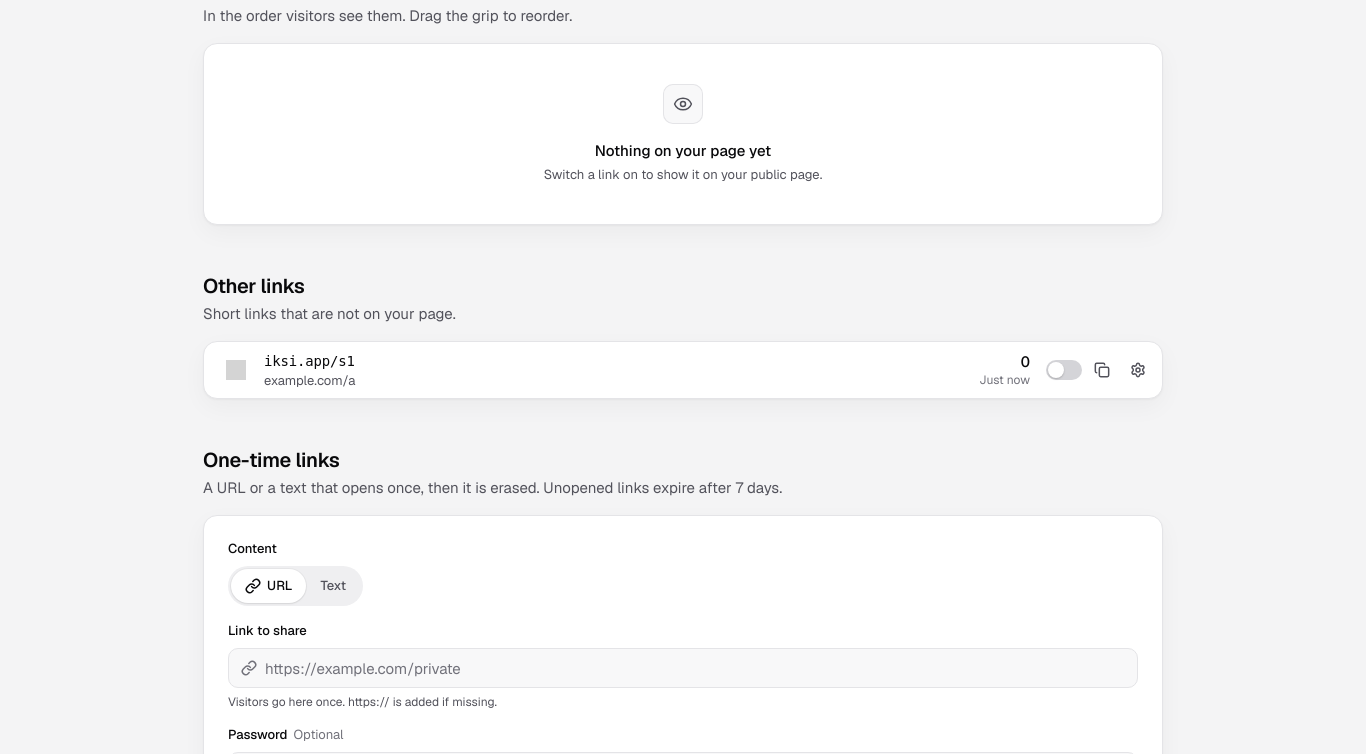
Test: links page settings sheet › updates the row from the returned settings
(page scrolled)
Click the button named "Settings for iksi.app/s1". click: x=1138, y=370
box: [1122,354,1154,386]
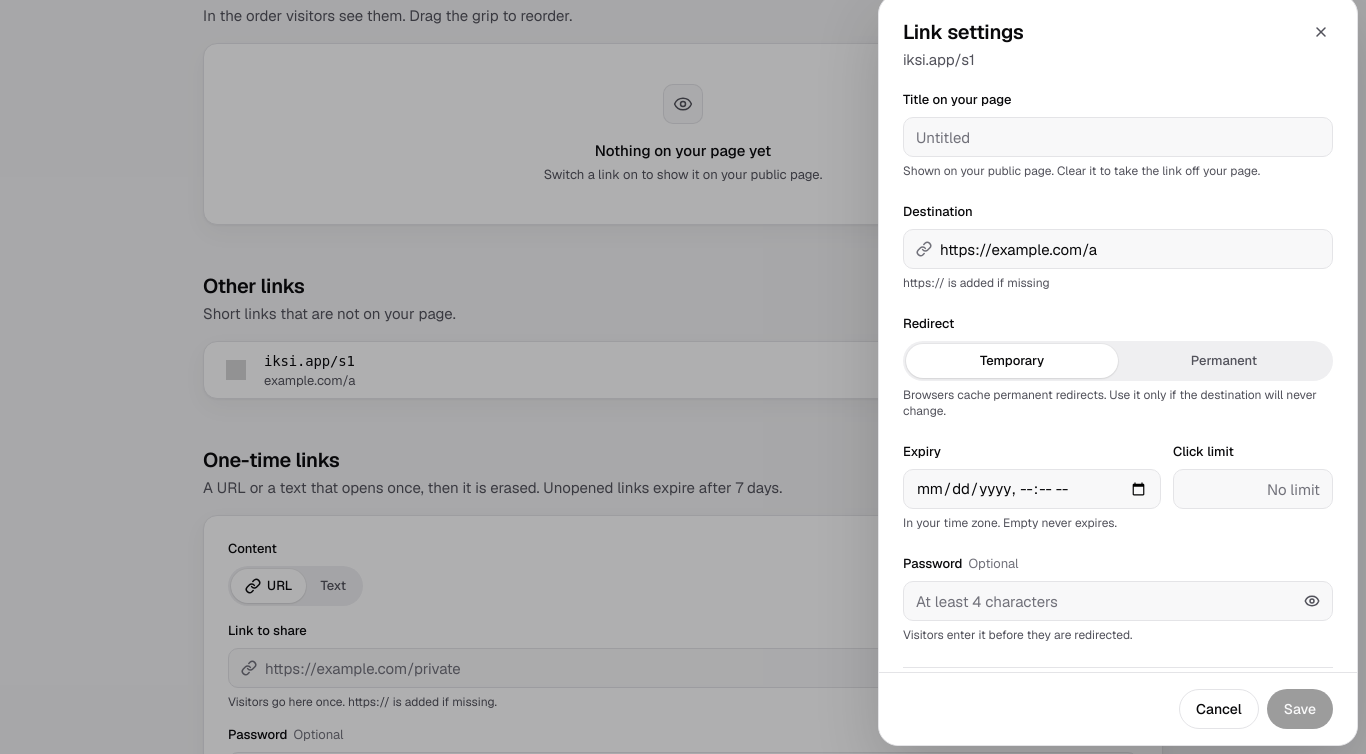
Replace the text in the field labelled "Destination" with "https://changed.example.org/b". click: x=1130, y=249
box: [940,230,1320,268]
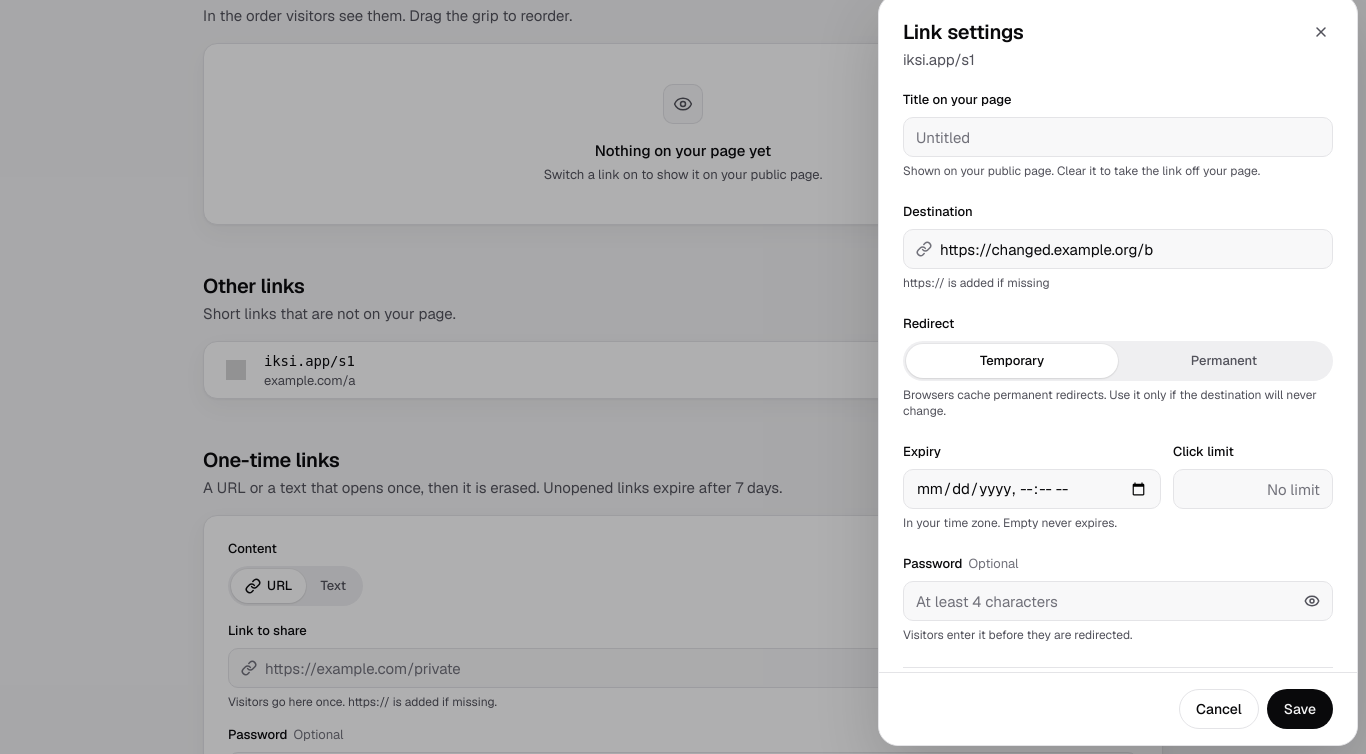
Click the button "Save". click: x=1300, y=709
box: [1267,689,1333,729]
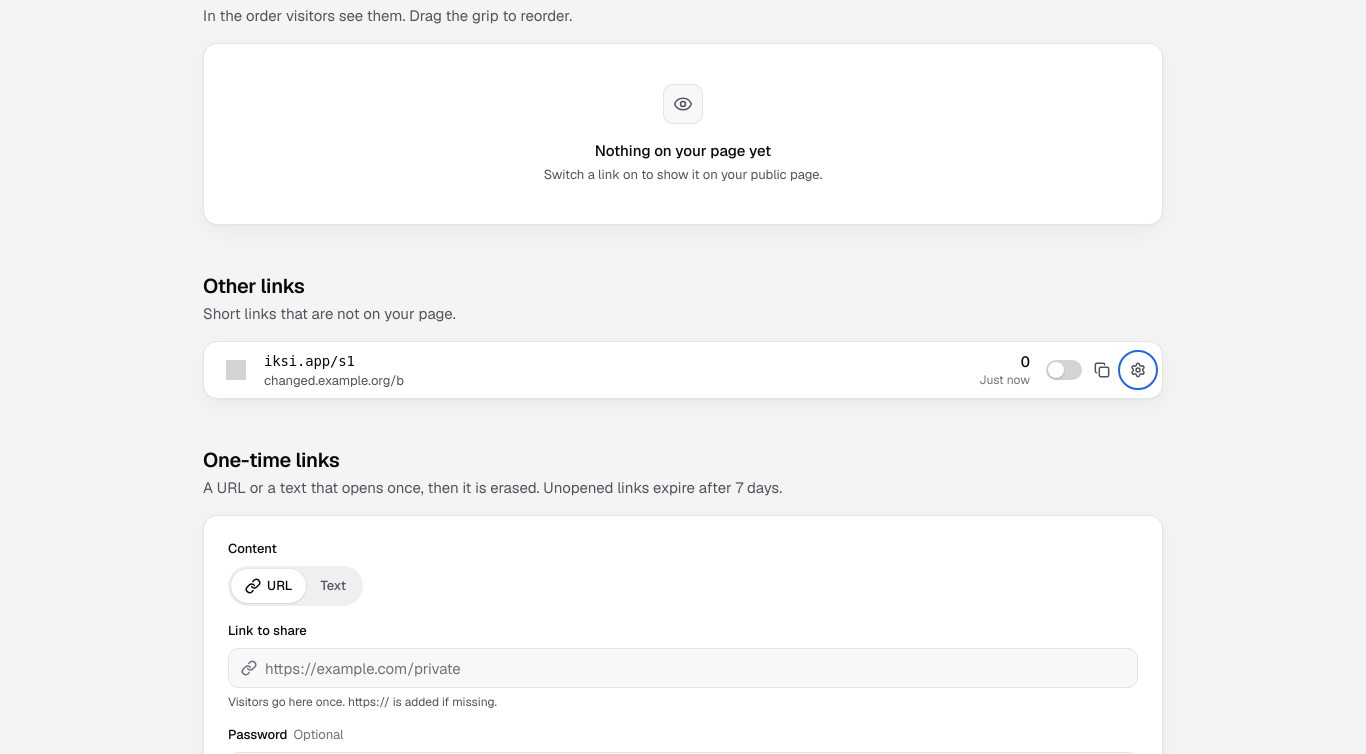
Expected: the text titled "https://changed.example.org/b" is shown, [264,372,404,389]
